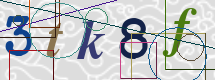3: (4, 14, 33, 57)
8: (119, 16, 148, 60)
f: (162, 6, 198, 58)
k: (76, 19, 106, 61)
t: (45, 22, 64, 59)
